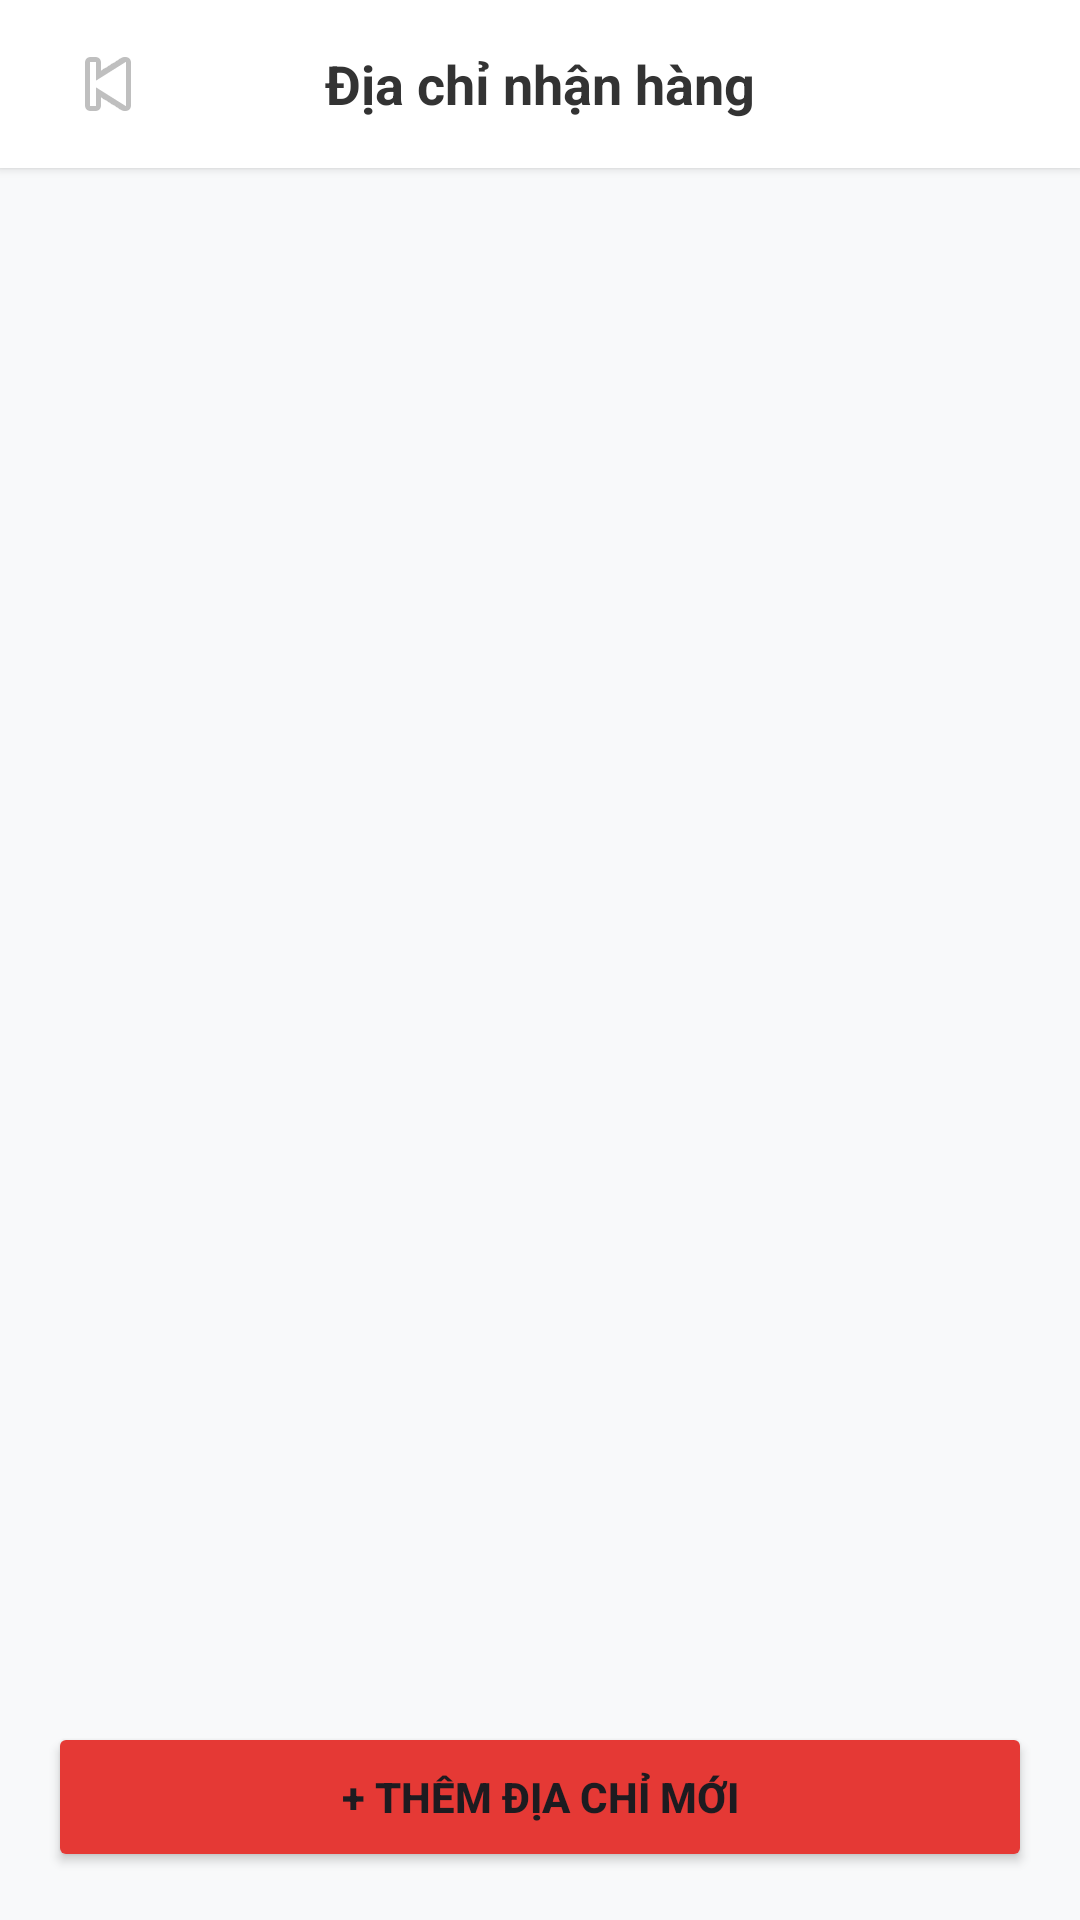

Icons on this 1080x1920 Android screen, each with its box as [x1,y1,x2,y2]:
previous: [85,57,131,111]
